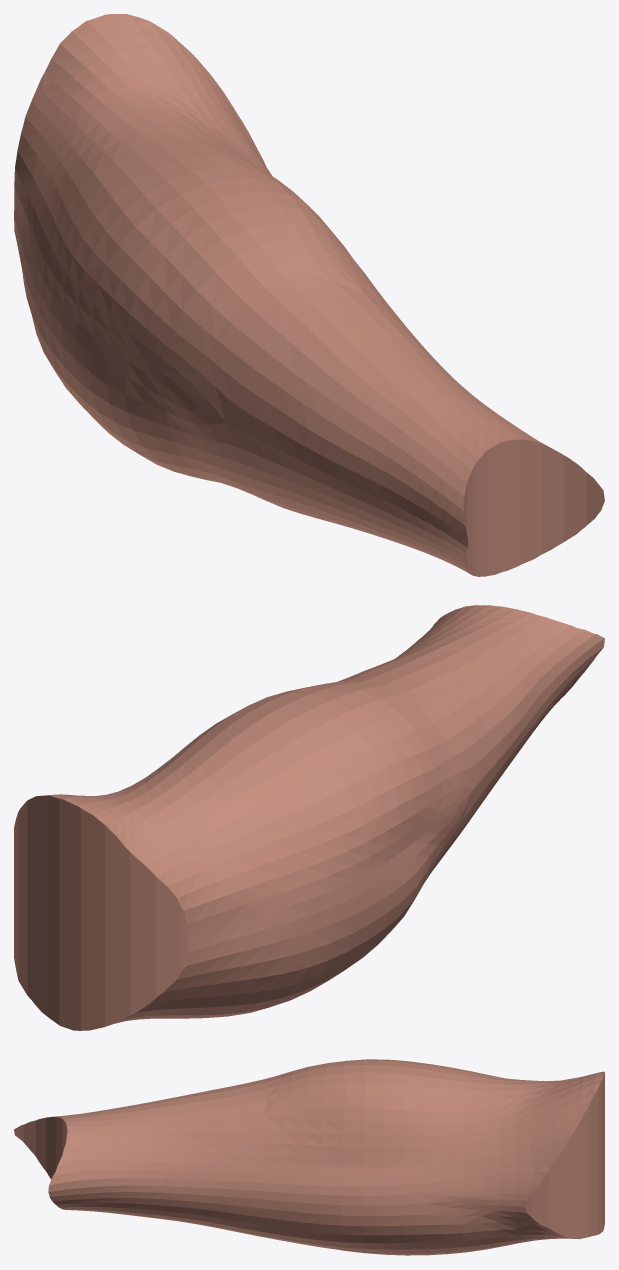
The model's file is pylon.dae.
The picture shows the model from 3 angles, top to bottom: view 1: azimuth 30°, elevation 25°; view 2: azimuth 150°, elevation 25°; view 3: azimuth 270°, elevation 25°; orthographic projection. The views are drawn at different scales.
Visible parts, largest first — view 1: Pylon-New; view 2: Pylon-New; view 3: Pylon-New.
Boxes of the visible parts, <box> form: Pylon-New: <box>14,14,604,576</box>; Pylon-New: <box>14,605,604,1030</box>; Pylon-New: <box>14,1059,604,1255</box>.
Bounding box in the file's own units: 0.1263 × 0.3576 × 0.1233.
